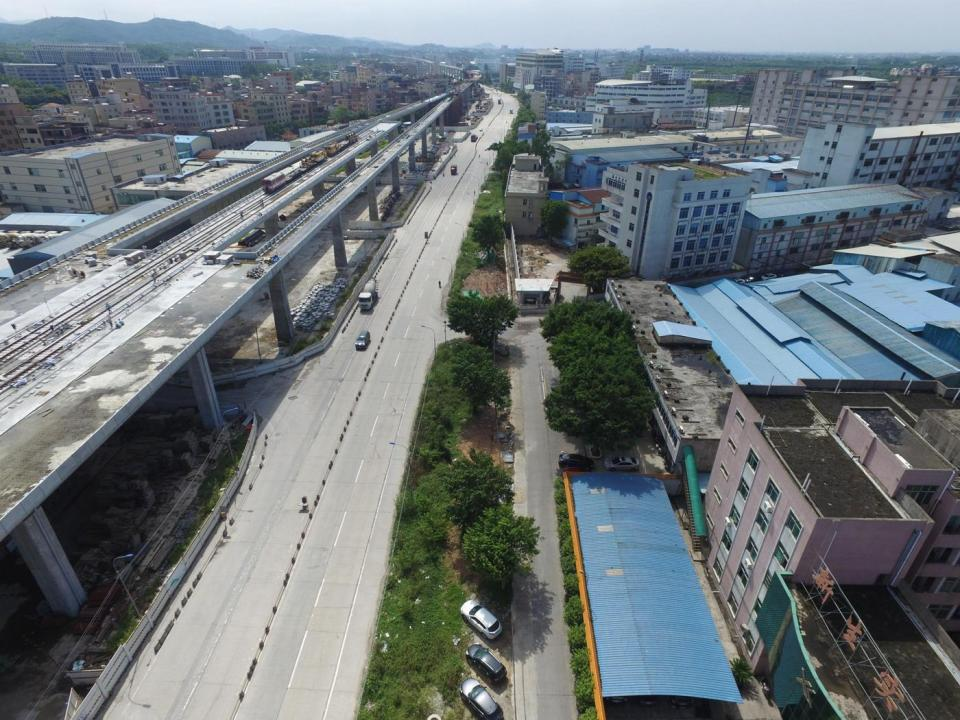car: (457, 680, 505, 720), (461, 599, 501, 641), (467, 644, 508, 684), (558, 454, 595, 468), (605, 457, 639, 471), (562, 467, 592, 480), (355, 330, 370, 349), (730, 276, 745, 288), (760, 272, 779, 281), (745, 276, 756, 284), (509, 110, 513, 113), (479, 128, 483, 131)
truck: (450, 164, 456, 176), (471, 134, 477, 142)
